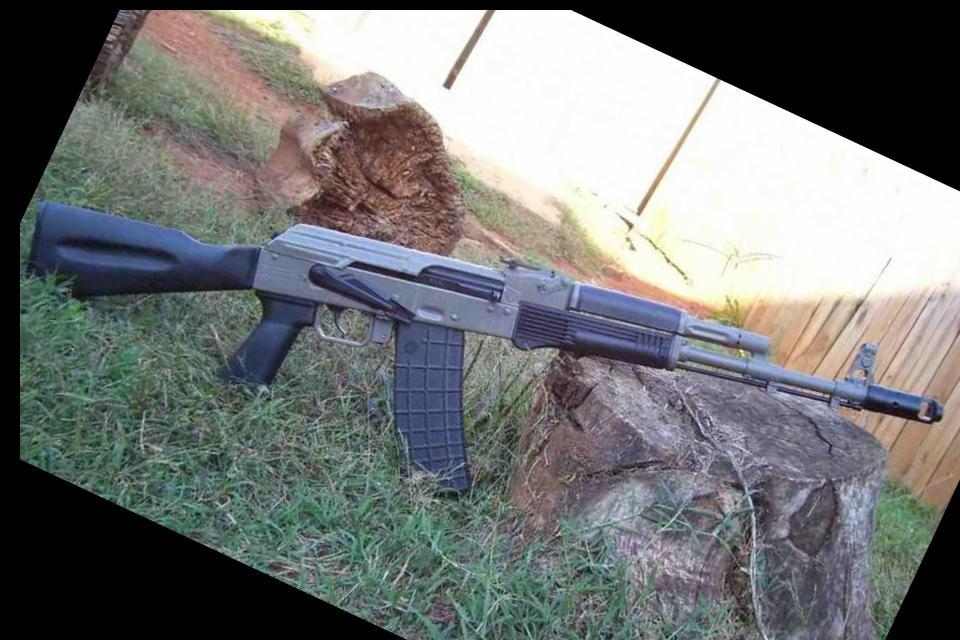larga: (27, 199, 945, 499)
